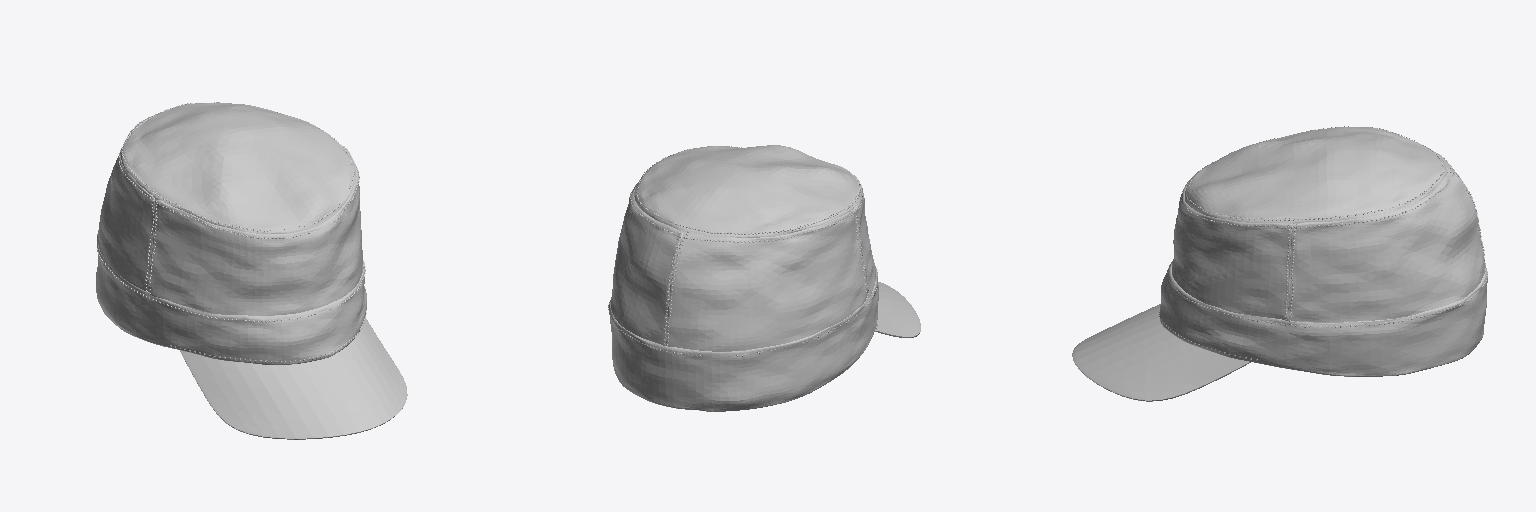
3 renders of one model, left to right at view 1: azimuth 30°, elevation 25°; view 2: azimuth 150°, elevation 25°; view 3: azimuth 270°, elevation 25°, orthographic.
Parts seen in each view (by area): view 1: AM_102_046_001, AM_102_046_002; view 2: AM_102_046_001, AM_102_046_002; view 3: AM_102_046_001, AM_102_046_002.
Part boxes in pixels (bbox=[...]): AM_102_046_001: bbox=[96, 102, 407, 439]; AM_102_046_002: bbox=[97, 102, 366, 362]; AM_102_046_001: bbox=[609, 145, 920, 411]; AM_102_046_002: bbox=[608, 146, 877, 356]; AM_102_046_001: bbox=[1072, 127, 1487, 401]; AM_102_046_002: bbox=[1159, 126, 1487, 360].
Bounding box in the file's own units: 56.12 × 52.41 × 93.14.